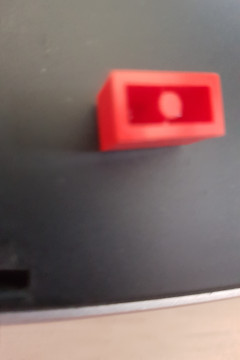1x2 red: (85, 65, 228, 156)
